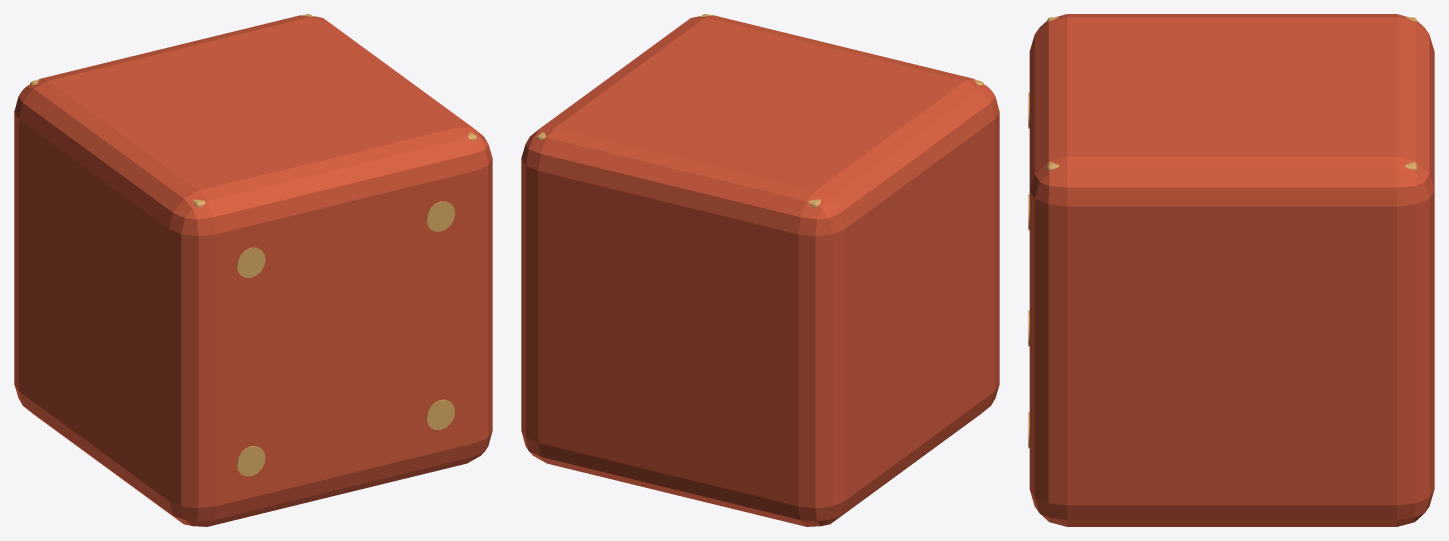
File: block-coral.glb
3 renders of one model, left to right at view 1: azimuth 30°, elevation 25°; view 2: azimuth 150°, elevation 25°; view 3: azimuth 270°, elevation 25°, orthographic. The views are drawn at different scales.
Visible parts, largest first — view 1: block-coral; view 2: block-coral; view 3: block-coral.
Part boxes in pixels (box(x1,y1,x2,y2)): block-coral: box(14, 14, 492, 526); block-coral: box(521, 14, 999, 526); block-coral: box(1028, 14, 1434, 526).
Bounding box in the file's own units: 0.495 × 0.495 × 0.4965.
